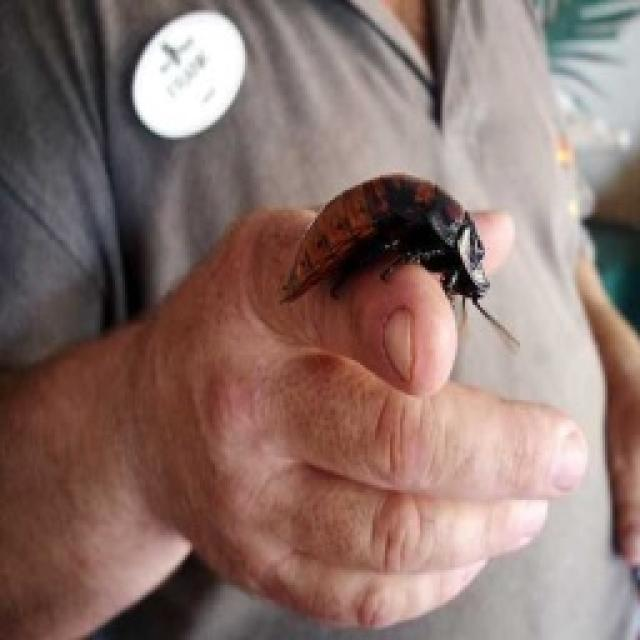cockroach: (275, 170, 523, 354)
